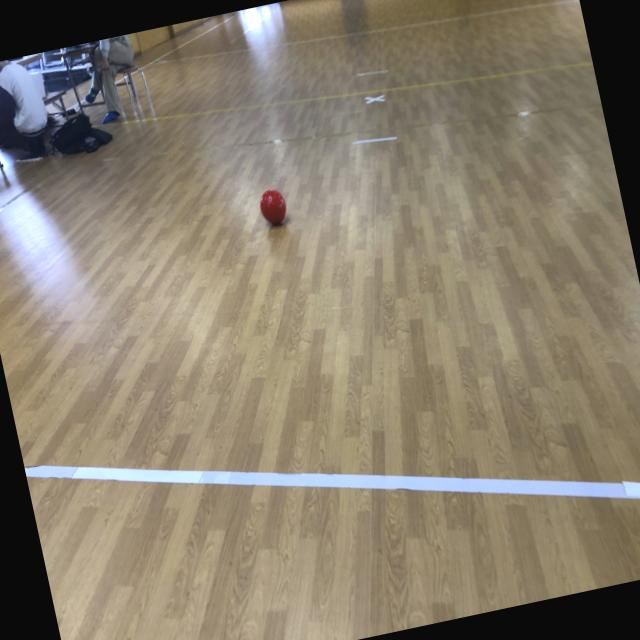red_ball: (256, 184, 290, 229)
